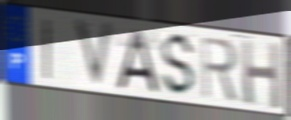A: (114, 27, 161, 95)
H: (240, 38, 284, 113)
I: (41, 17, 53, 83)
R: (200, 34, 240, 104)
S: (159, 31, 198, 99)
V: (71, 17, 117, 93)
